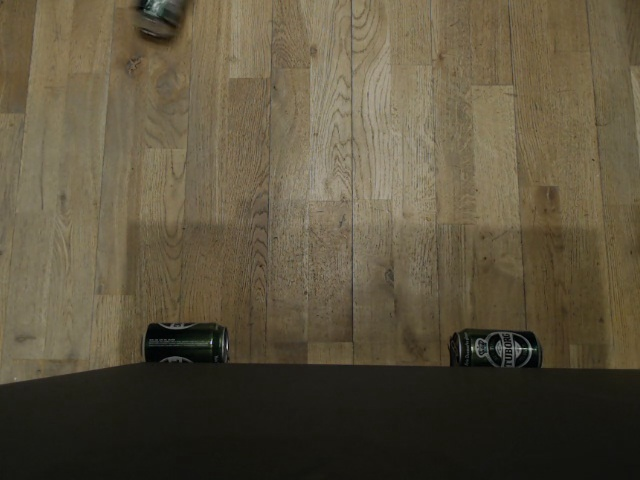beer: (137, 318, 230, 365), (448, 327, 545, 368), (133, 0, 190, 36)
